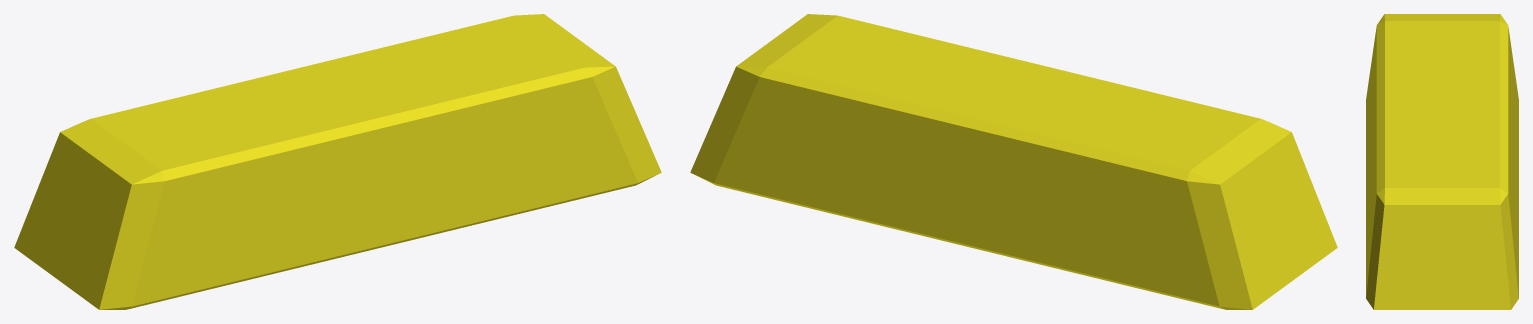
Rendered from gold_bar.fbx.
The picture shows the model from 3 angles, left to right: view 1: azimuth 30°, elevation 25°; view 2: azimuth 150°, elevation 25°; view 3: azimuth 270°, elevation 25°; orthographic projection. The views are drawn at different scales.
Visible parts, largest first — view 1: Cube; view 2: Cube; view 3: Cube.
Boxes of the visible parts, box(x1,y1,x2,y2) form: Cube: box(14, 14, 661, 309); Cube: box(690, 14, 1337, 309); Cube: box(1366, 14, 1518, 309).
Size of the model in its own units: 879 by 184 by 256.
